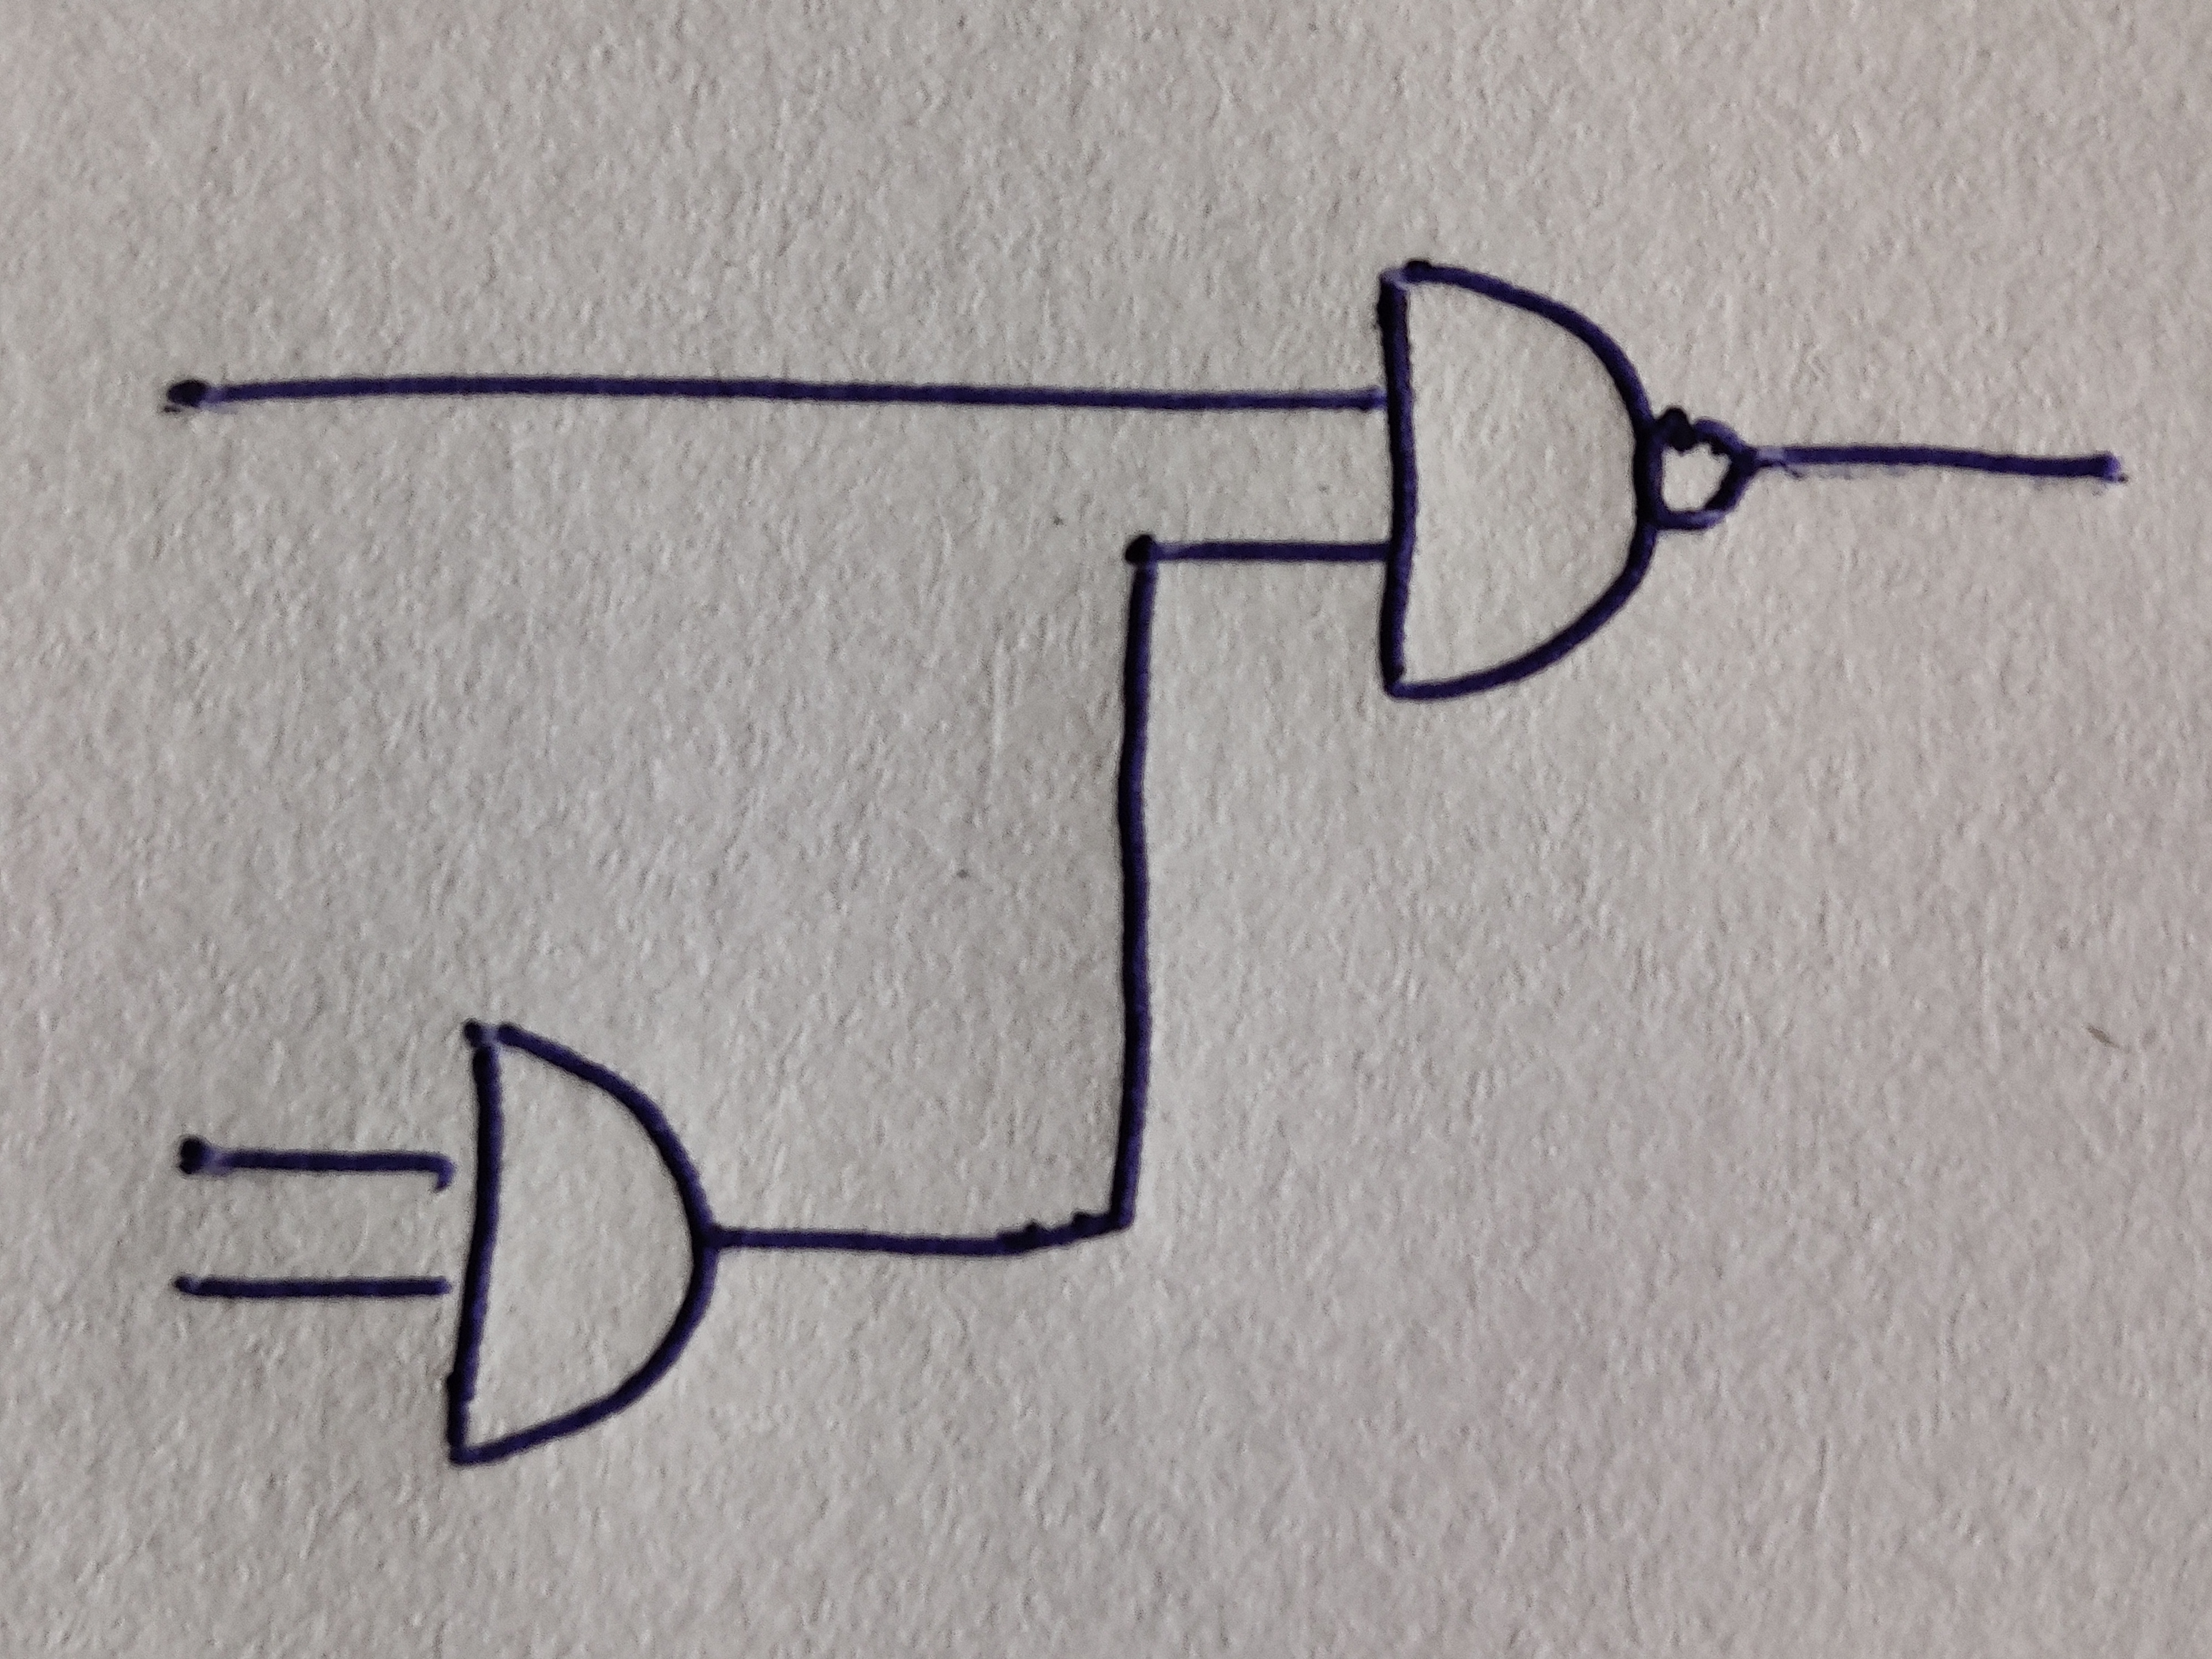and: (1376, 258, 1660, 704), (444, 1019, 719, 1469)
not: (1641, 406, 1752, 532)
